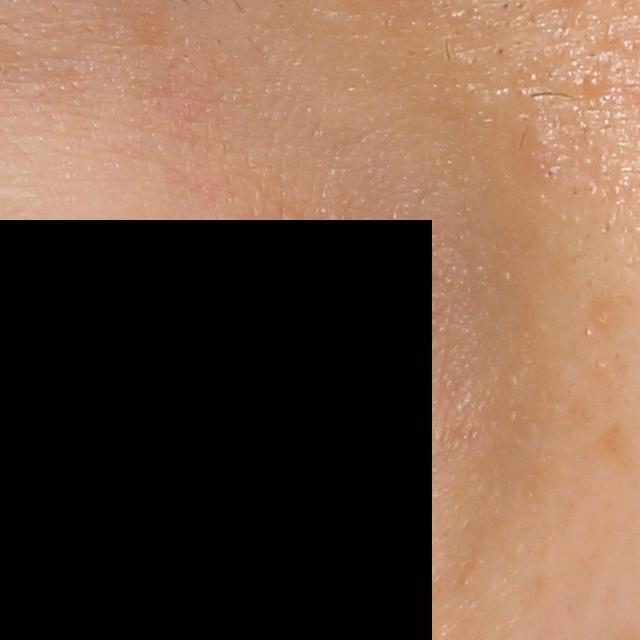comedo: (578, 70, 607, 97)
melasma: (596, 419, 640, 479)
